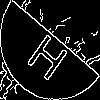H: (25, 25, 76, 83)
